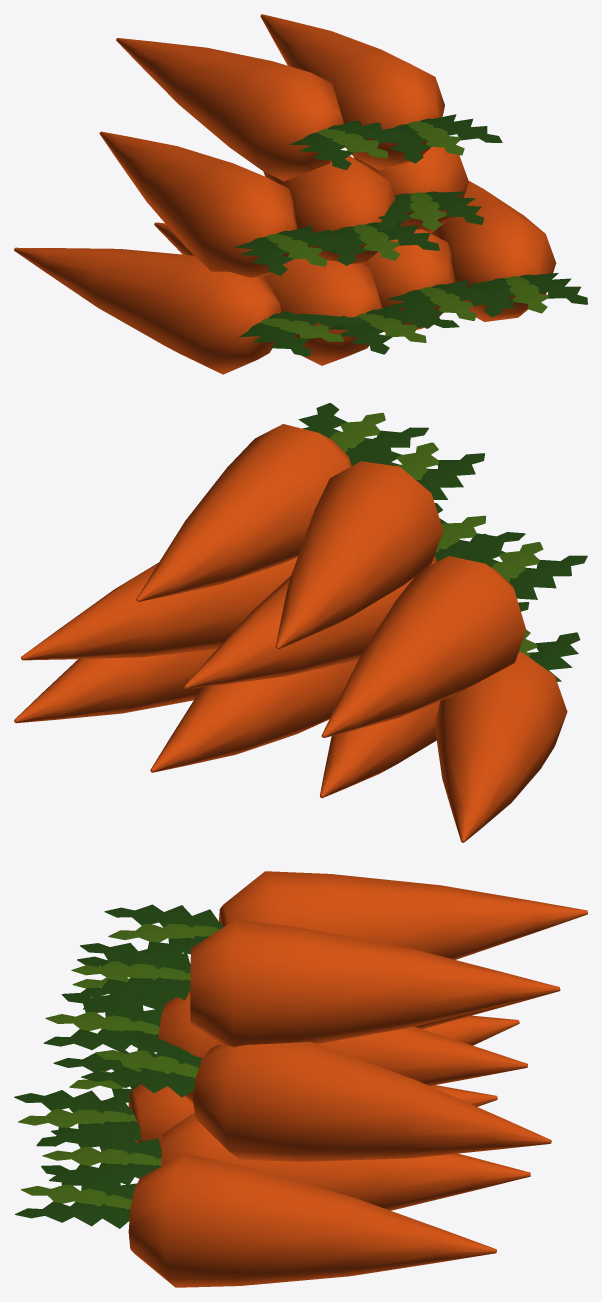
File: pile-vegetable-9.obj
3 renders of one model, top to bottom at view 1: azimuth 30°, elevation 25°; view 2: azimuth 150°, elevation 25°; view 3: azimuth 270°, elevation 25°, orthographic. The views are drawn at different scales.
Parts seen in each view (by area): view 1: pile-vegetable-9; view 2: pile-vegetable-9; view 3: pile-vegetable-9.
Part boxes in pixels (x1,y1,x2,y2): pile-vegetable-9: (14, 14, 587, 374); pile-vegetable-9: (14, 403, 587, 842); pile-vegetable-9: (14, 871, 587, 1287).
Bounding box in the file's own units: 0.6447 × 0.392 × 0.6733.
Materials: 1 (1 with a texture image).
